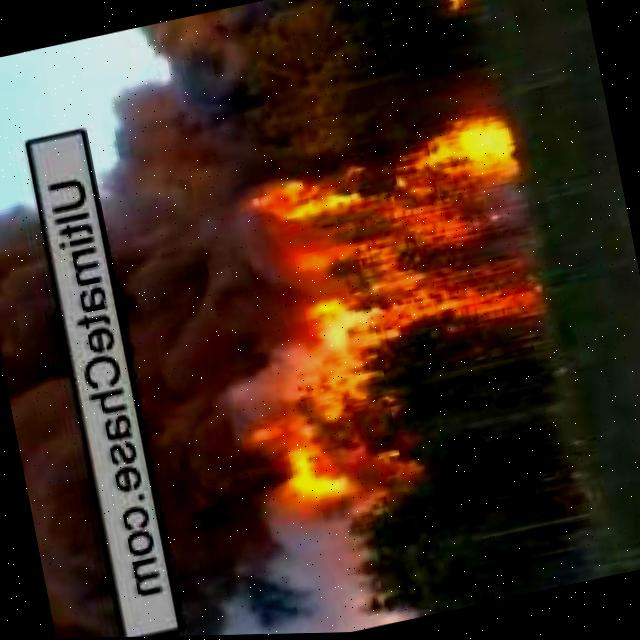Fire: (218, 97, 572, 514), (437, 0, 481, 11)
Smoke: (79, 84, 294, 639), (0, 210, 128, 640)
